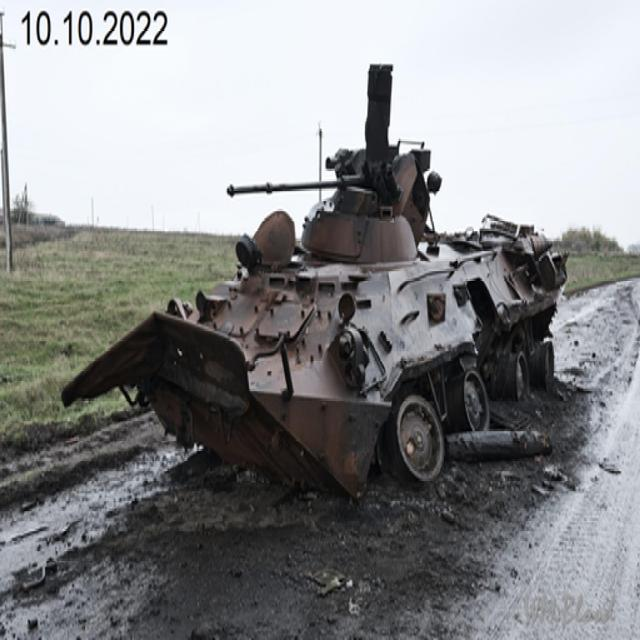APC-IFV: (134, 91, 570, 522)
